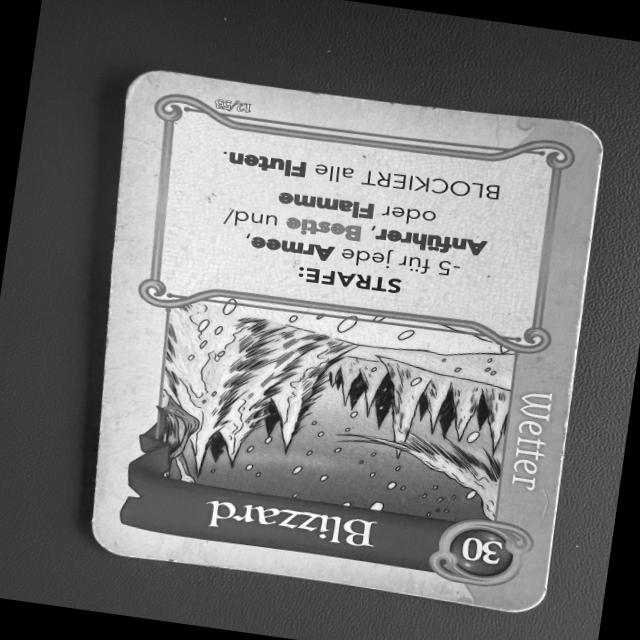Blizzard: (85, 66, 608, 620)
